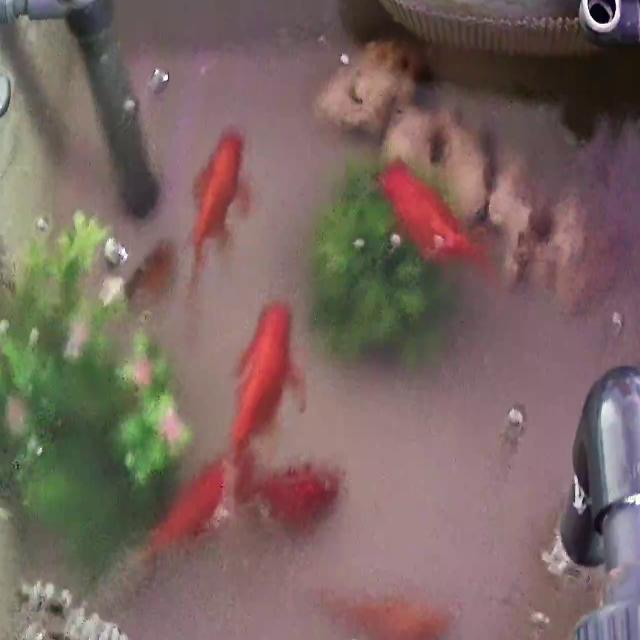fish: (380, 160, 495, 286), (230, 300, 304, 468), (187, 126, 251, 298), (136, 453, 230, 566), (242, 459, 342, 533), (335, 590, 442, 640)
